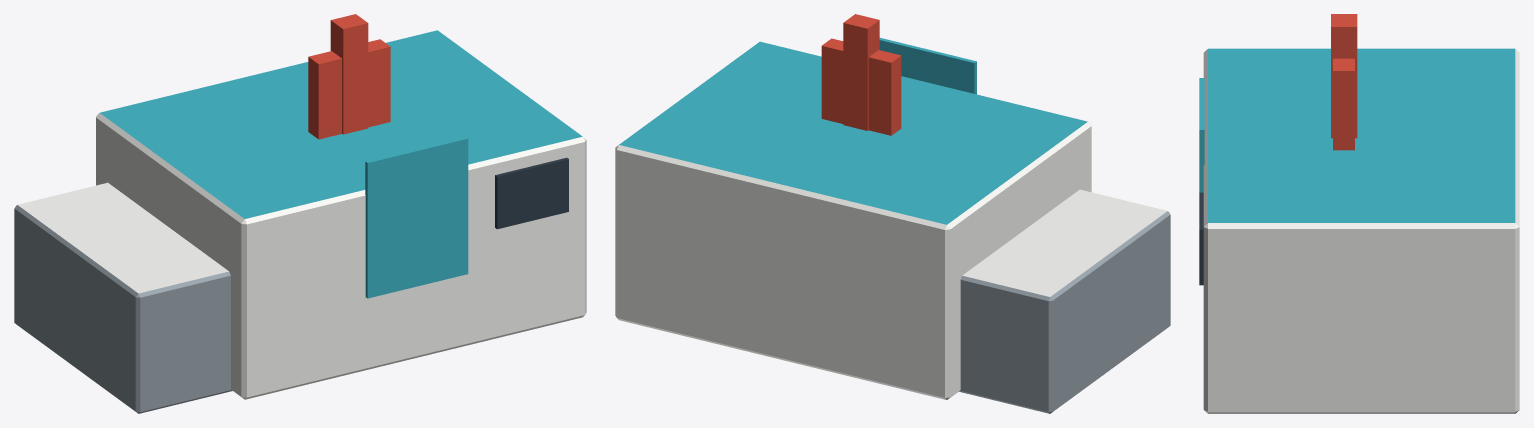
File: vet.fbx
3 views of the same model, side by side, from view 1: azimuth 30°, elevation 25°; view 2: azimuth 150°, elevation 25°; view 3: azimuth 270°, elevation 25° (orthographic). The views are drawn at different scales.
Parts seen in each view (by area): view 1: vet; view 2: vet; view 3: vet.
Part boxes in pixels (x1,y1,x2,y2): vet: (14,14,586,413); vet: (615,14,1170,413); vet: (1199,14,1519,413).
Bounding box in the file's own units: 6.1 × 3.85 × 3.65.
